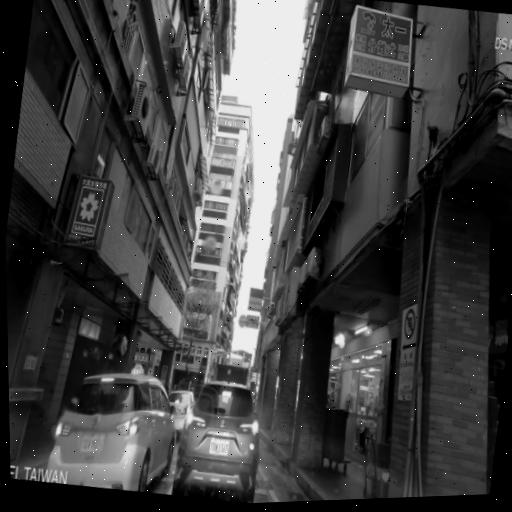Car: (39, 363, 186, 500), (168, 374, 268, 506), (204, 358, 254, 434), (159, 383, 198, 436)
